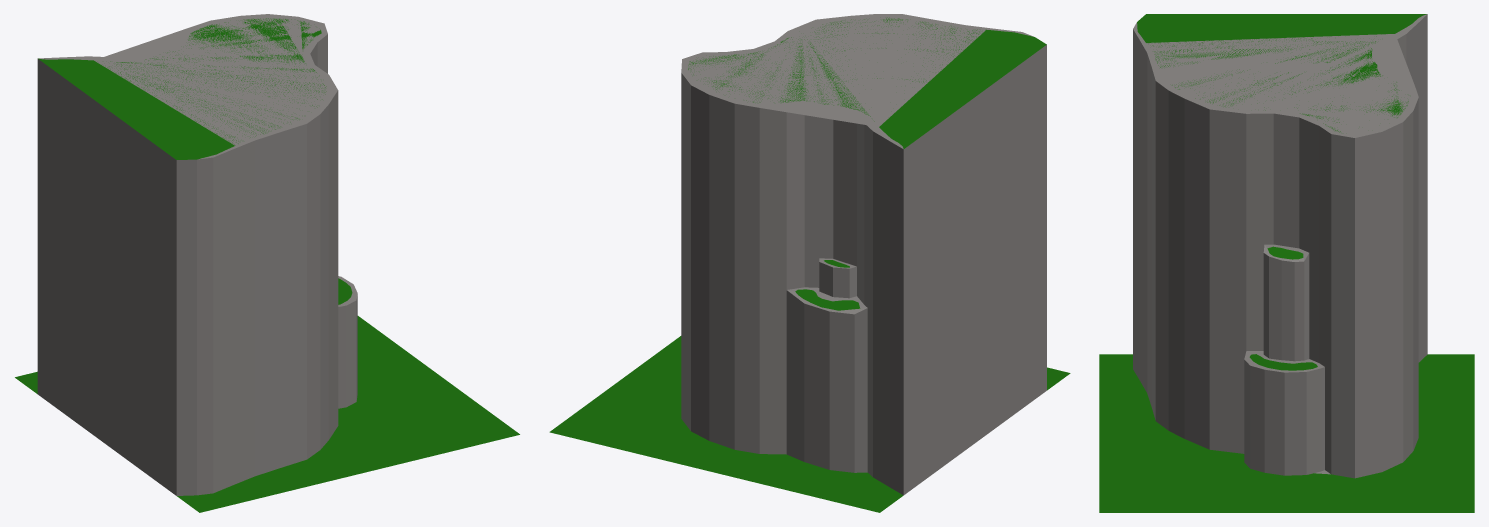
Rendered from MountainEdge.fbx.
3 views of the same model, side by side, from view 1: azimuth 30°, elevation 25°; view 2: azimuth 150°, elevation 25°; view 3: azimuth 270°, elevation 25° (orthographic). The views are drawn at different scales.
Visible parts, largest first — view 1: Plane.009; view 2: Plane.009; view 3: Plane.009.
Part boxes in pixels (left/top/right/bottom): Plane.009: left=15, top=14, right=519, bottom=512; Plane.009: left=549, top=14, right=1070, bottom=512; Plane.009: left=1099, top=14, right=1474, bottom=512.
Size of the model in its own units: 100 by 100 by 100.
